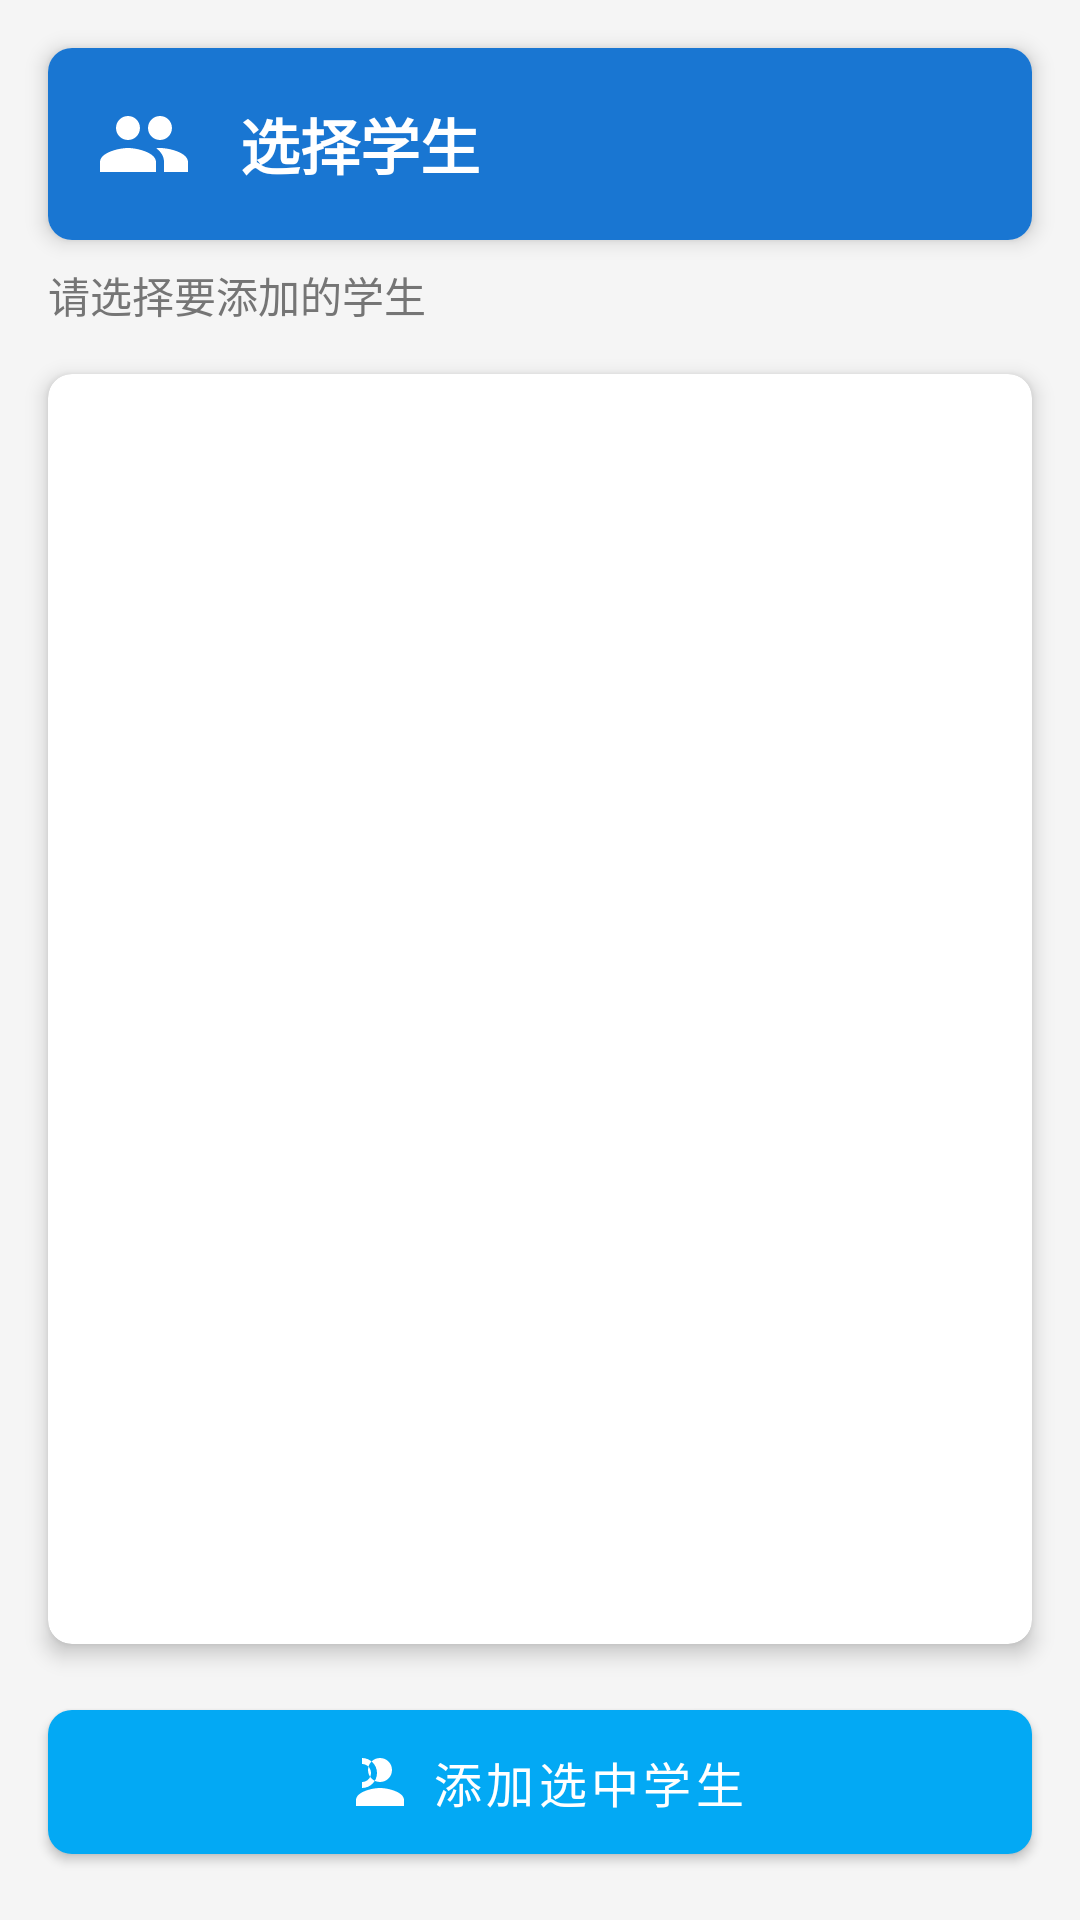

Named icons in this screenshot (1080×1920) and their centers, (x=x, y=y):
学生图标: (x=144, y=144)
